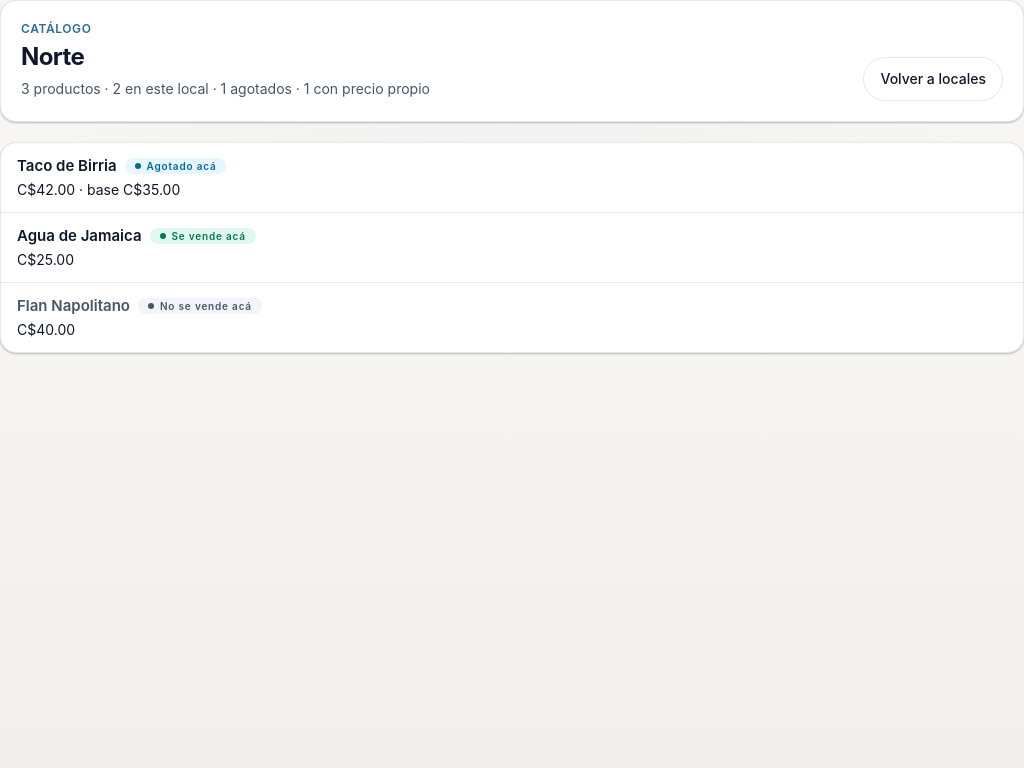
LocationCatalogPage › guarda un precio propio y manda el estado completo
This screenshot has width=1024, height=768.
Click the button with aria-label "Editar Taco de Birria" at (67, 166), box [1, 143, 1023, 212]
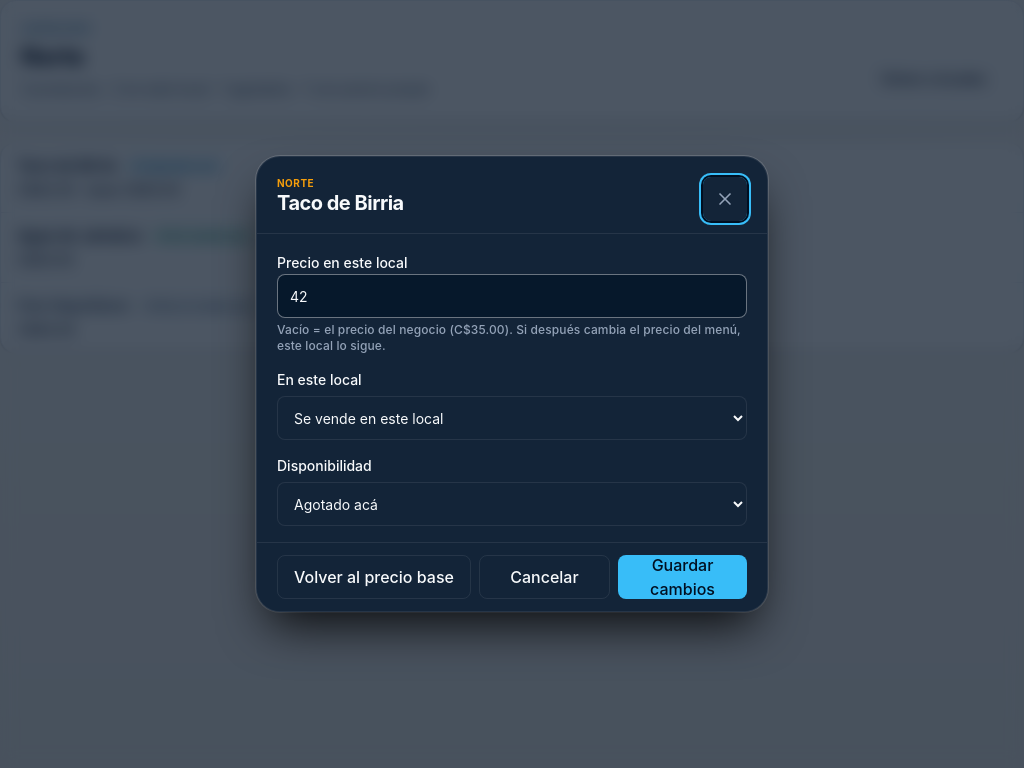
Expected: the number field labelled "Precio en este local" holds "42"
Replace the text in the number field labelled "Precio en este local" with "45" at (512, 296), box [277, 274, 747, 318]
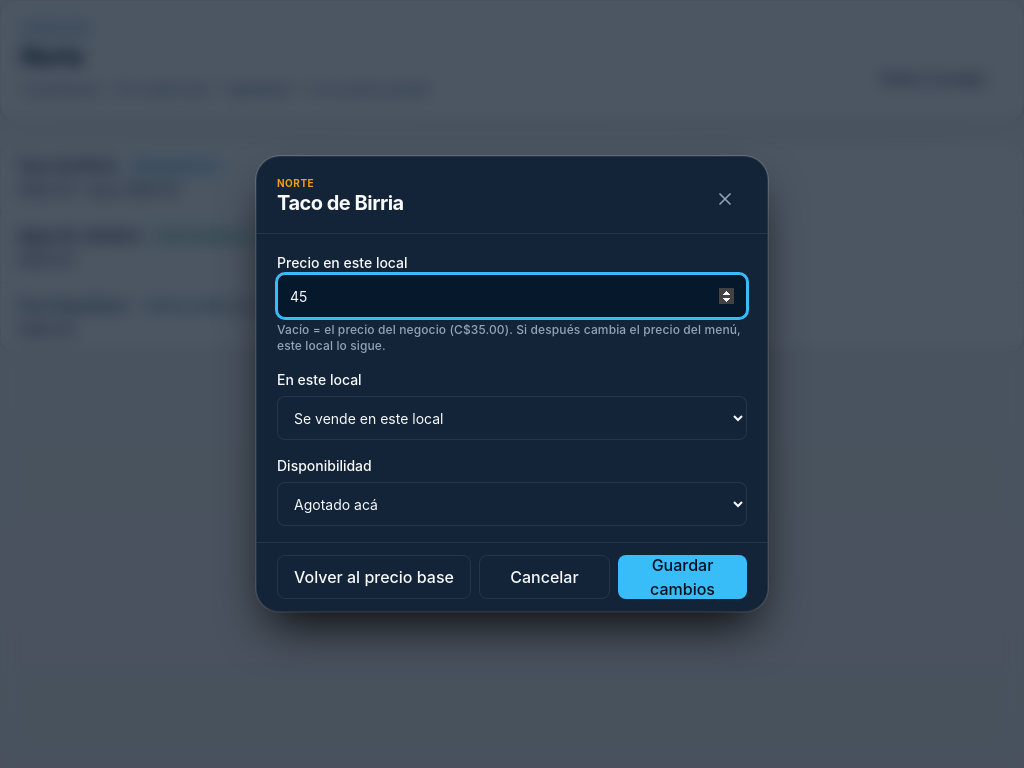
Click the button "Guardar cambios" at (682, 577), box [618, 555, 747, 599]
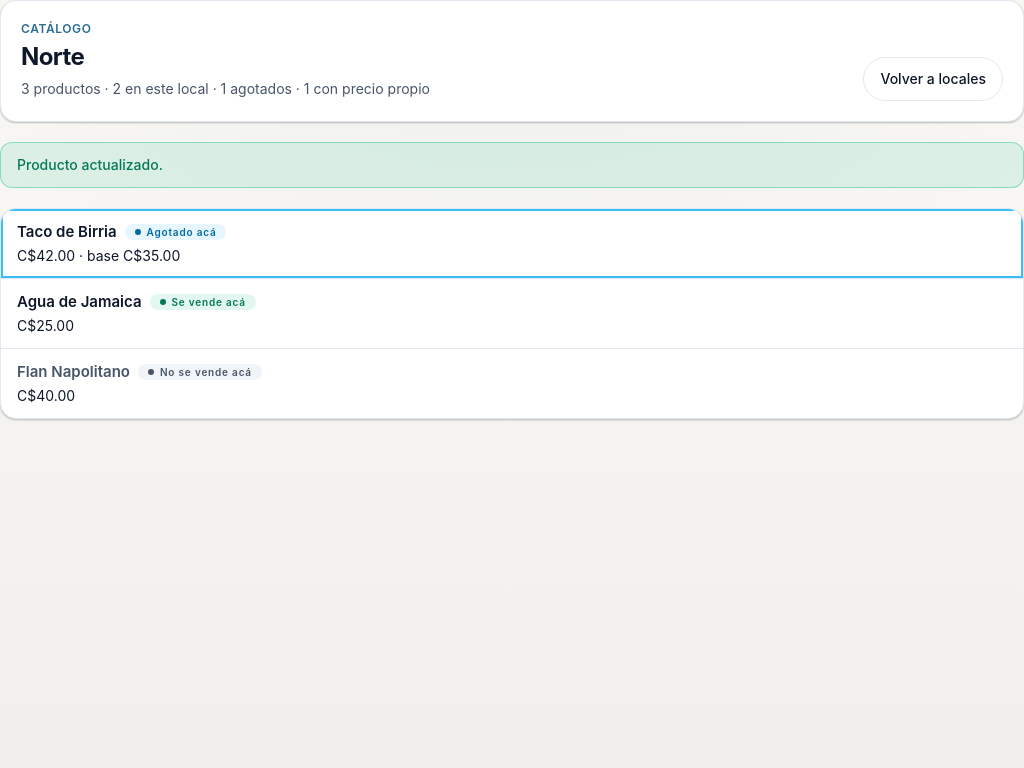
Expected: the text "Producto actualizado." is shown, [0, 142, 1023, 188]
